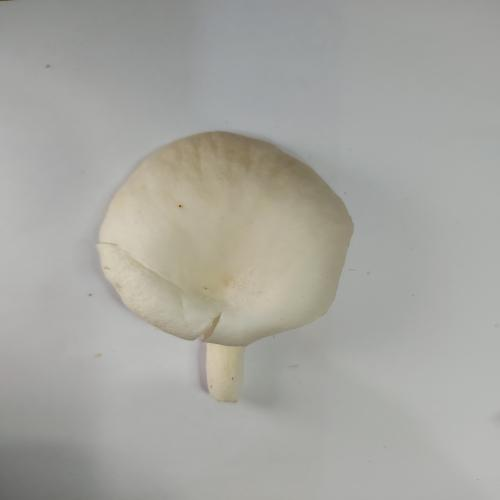Oyster Mushroom: (95, 130, 355, 403)
